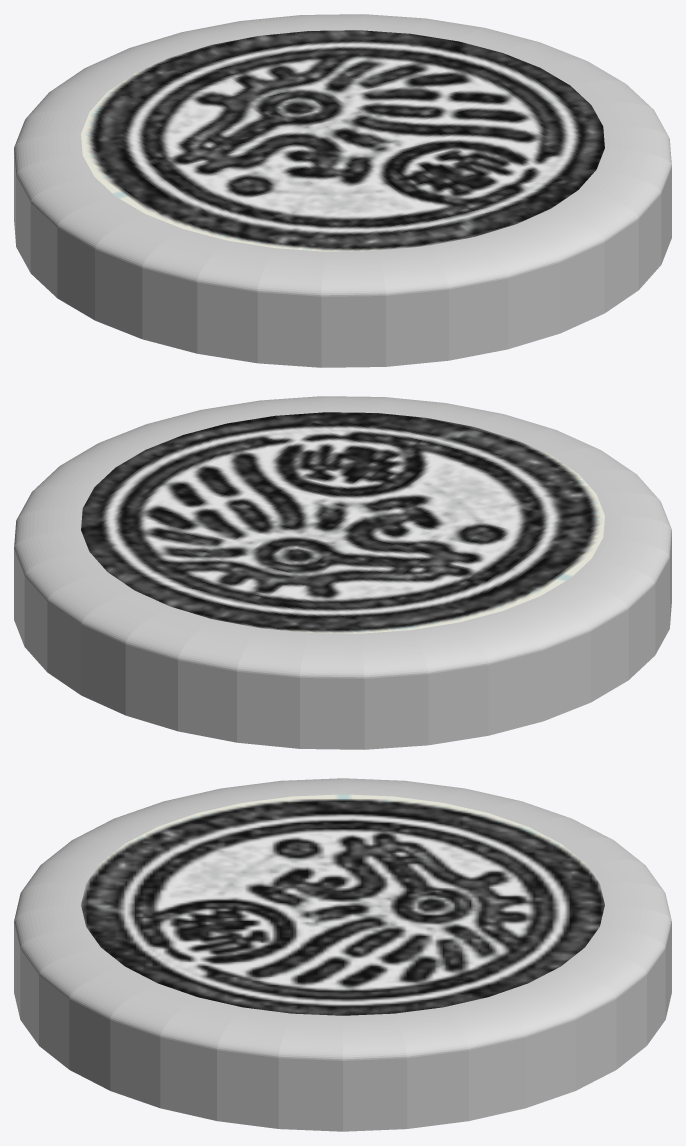
Rendered from Black Lion.fbx.
3 renders of one model, top to bottom at view 1: azimuth 30°, elevation 25°; view 2: azimuth 150°, elevation 25°; view 3: azimuth 270°, elevation 25°, orthographic.
Visible parts, largest first — view 1: Cylinder.006; view 2: Cylinder.006; view 3: Cylinder.006.
Part boxes in pixels (left/top/right/bottom): Cylinder.006: left=14, top=14, right=671, bottom=367; Cylinder.006: left=14, top=396, right=671, bottom=749; Cylinder.006: left=14, top=778, right=671, bottom=1131.
Size of the model in its own units: 151 by 22.19 by 151.
2 materials, 1 textured.
